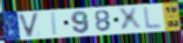8: (94, 9, 113, 32)
9: (70, 10, 91, 35)
I: (51, 12, 59, 37)
L: (143, 5, 163, 31)
V: (17, 12, 41, 39)
X: (117, 7, 144, 33)
